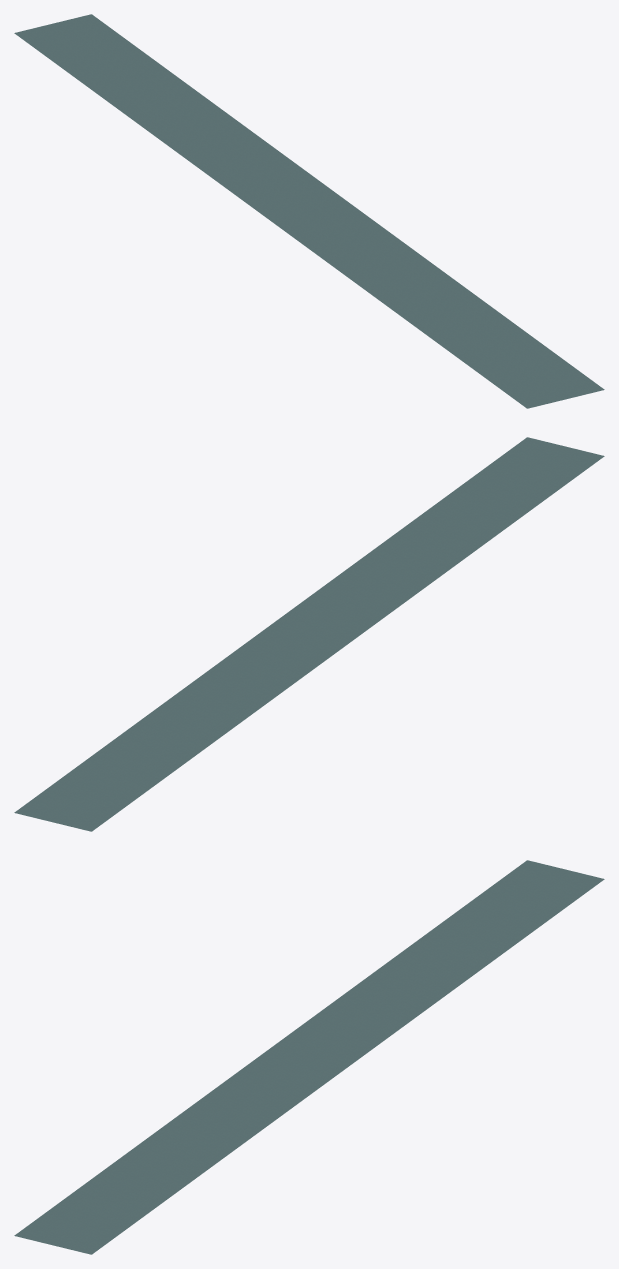
The model's file is SM_Carpet_R.fbx.
The picture shows the model from 3 angles, top to bottom: view 1: azimuth 30°, elevation 25°; view 2: azimuth 150°, elevation 25°; view 3: azimuth 330°, elevation 25°; orthographic projection.
Parts seen in each view (by area): view 1: SM_Carpet_R; view 2: SM_Carpet_R; view 3: SM_Carpet_R.
Boxes of the visible parts, x1,y1,x2,y2 form: SM_Carpet_R: (14,14,604,408); SM_Carpet_R: (14,437,604,831); SM_Carpet_R: (14,860,604,1254).
Bounding box in the file's own units: 191 × 0 × 2191.
Materials: 1 (1 with a texture image).
